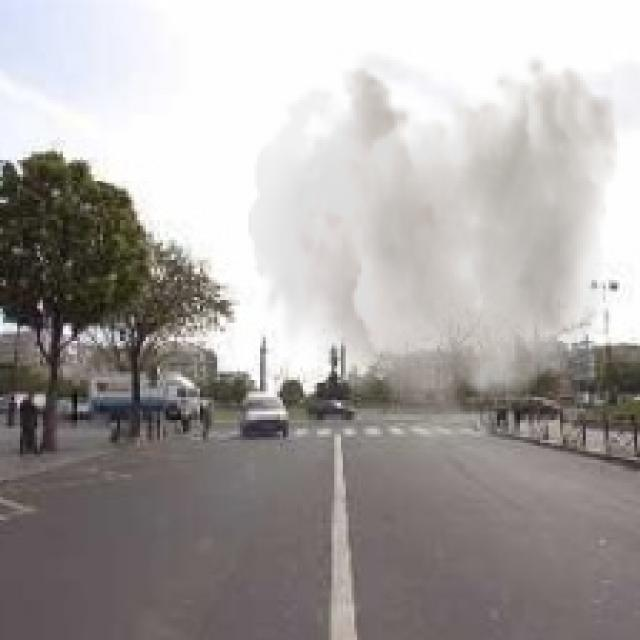smoke: (249, 54, 620, 454)
